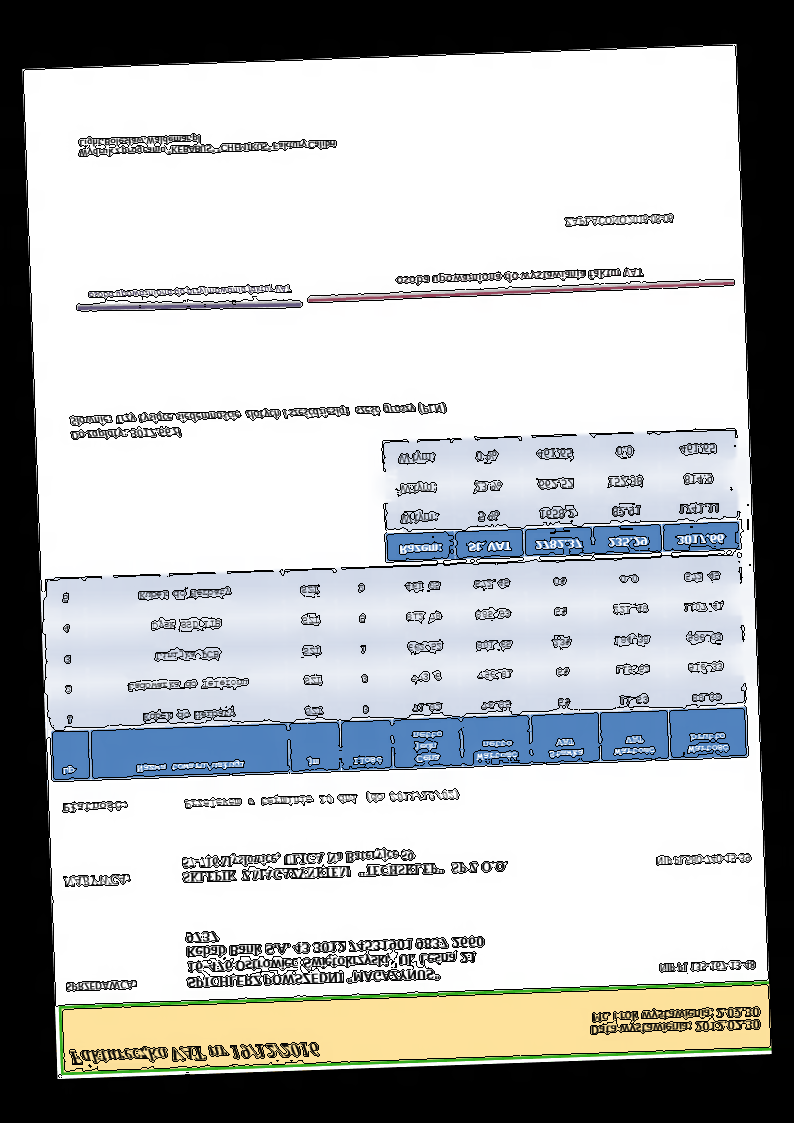Table: (44, 552, 750, 784), (381, 428, 742, 562)
TextBox: (183, 920, 488, 992), (68, 399, 448, 444), (180, 843, 509, 886), (77, 128, 339, 161), (67, 1037, 322, 1069), (182, 786, 460, 813), (393, 264, 644, 289), (588, 1005, 762, 1039), (86, 280, 293, 303), (561, 211, 675, 230), (654, 849, 752, 868), (658, 958, 759, 976), (60, 871, 133, 892), (64, 977, 137, 995), (60, 799, 131, 816)
